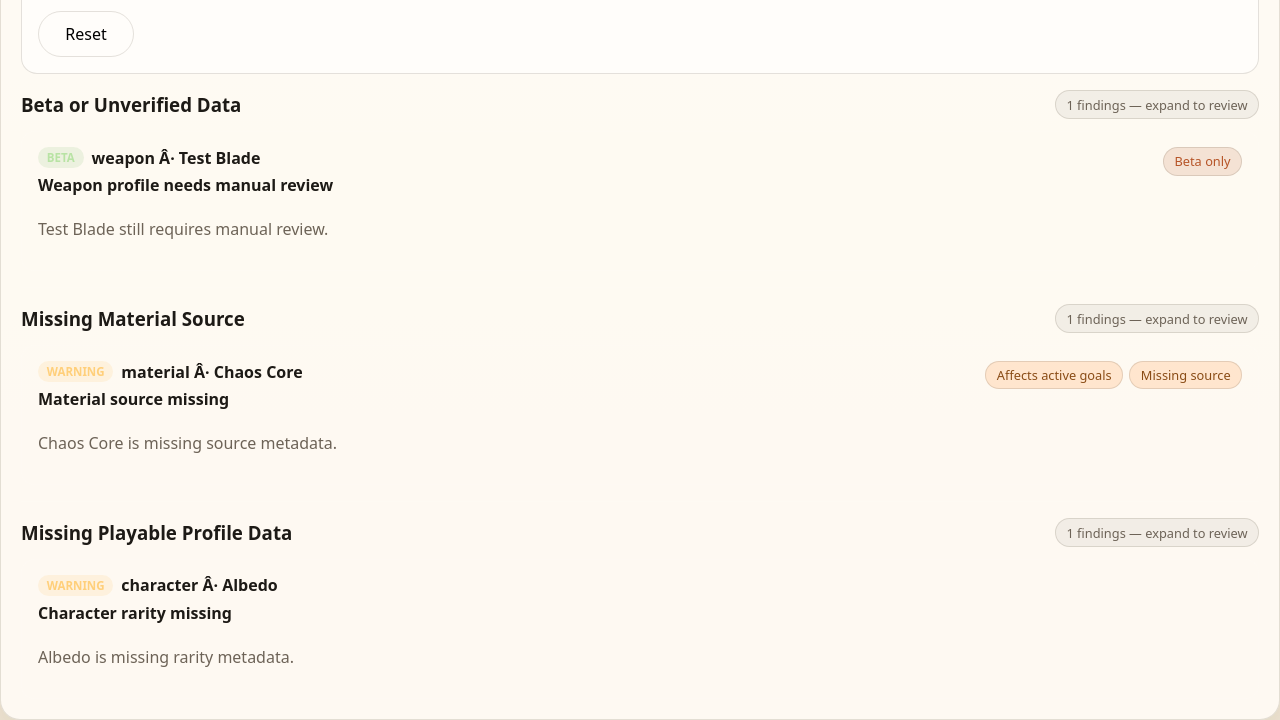
Scenario: DataHealthCenter › shows issue details only when expanded
(page scrolled)
Click the text "Material source missing" at (134,399), box x1=38 y1=388 x2=229 y2=410
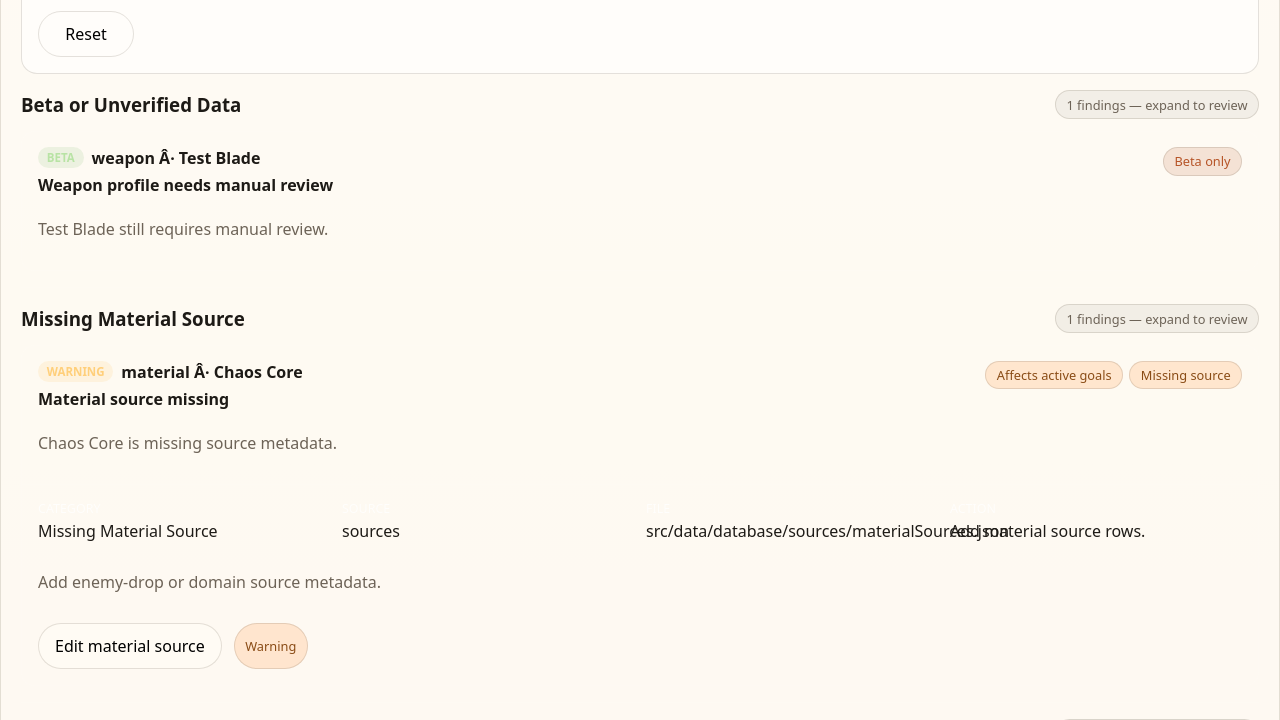
Expected: the text "Add enemy-drop or domain source metadata." is shown, x1=38 y1=571 x2=381 y2=593
Expected: the button "Edit material source" is shown, x1=38 y1=623 x2=222 y2=669
